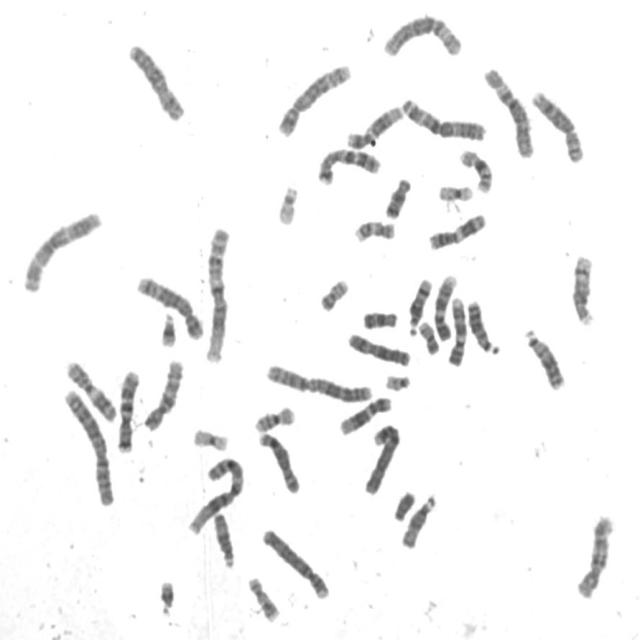A1: (184, 451, 248, 536), (200, 221, 233, 365)
A2: (60, 382, 118, 508), (263, 357, 376, 404)
A3: (18, 203, 106, 295), (398, 91, 491, 142)
B4: (259, 522, 333, 601), (361, 417, 404, 496)
B5: (275, 57, 354, 138), (133, 270, 207, 342)
C10: (573, 508, 618, 600), (141, 353, 187, 433)
C11: (62, 354, 120, 424), (425, 207, 490, 251)
C12: (344, 99, 406, 151), (337, 389, 396, 436)
C6: (481, 61, 538, 158), (380, 9, 466, 59)
C7: (315, 142, 385, 186), (113, 364, 143, 454)
C8: (529, 85, 588, 164), (255, 426, 304, 495)
C9: (431, 269, 460, 341), (446, 292, 469, 368)
D13: (521, 322, 568, 391), (464, 293, 504, 356)
D14: (569, 248, 598, 327), (405, 272, 435, 337)
D15: (398, 488, 440, 550), (210, 506, 238, 570)
E16: (456, 143, 496, 195), (251, 400, 298, 434)
E17: (245, 570, 283, 624), (351, 214, 398, 244)
E18: (382, 171, 415, 220), (360, 305, 401, 331)
F19: (190, 422, 232, 452), (435, 178, 476, 203)
F20: (317, 272, 352, 314), (415, 315, 443, 356)
G21: (157, 306, 180, 348), (155, 574, 178, 616)
G22: (274, 178, 302, 227), (382, 368, 414, 392)
X: (125, 38, 189, 123), (344, 327, 415, 368)
Y: (390, 485, 419, 523)
